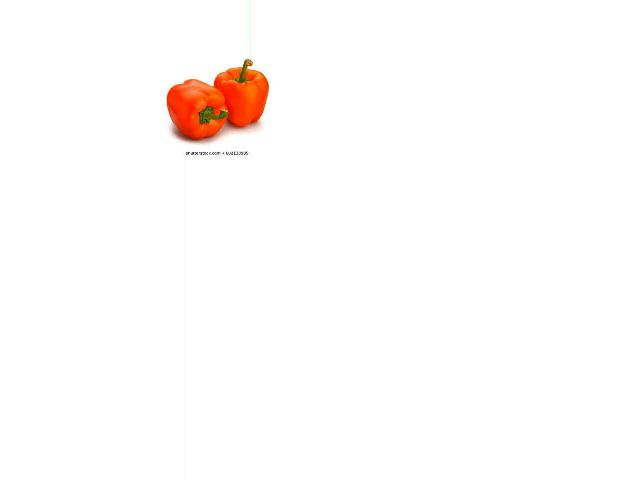bell_pepper: (165, 77, 230, 145)
